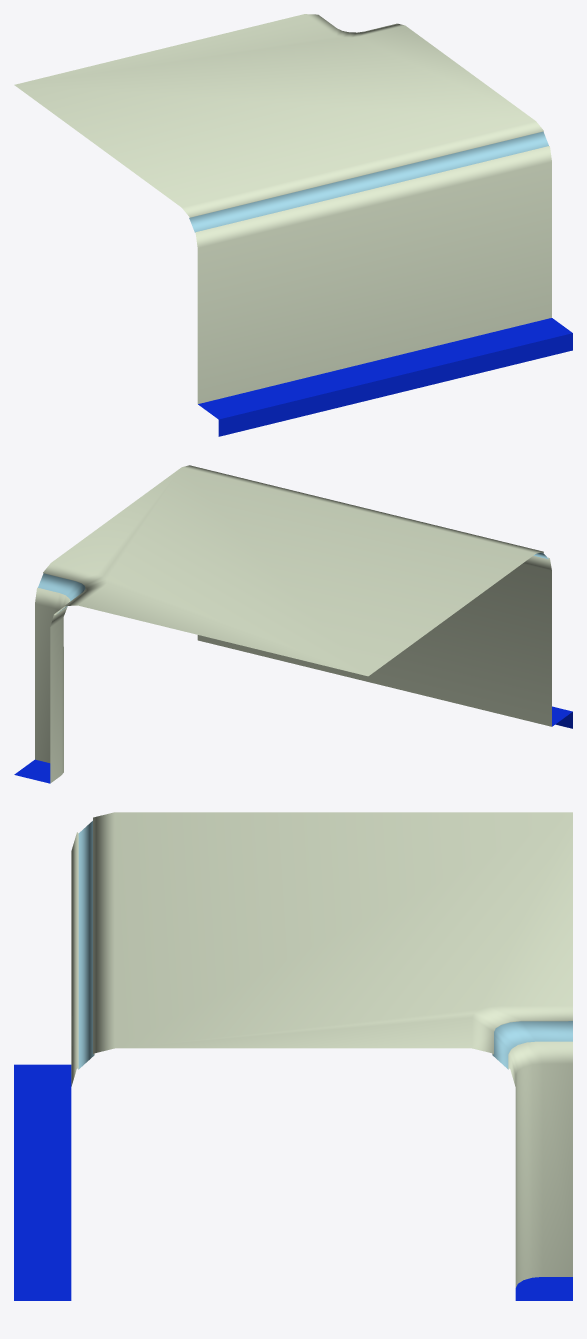
The model's file is Wall_Island_T_Singular_Sym.fbx.
3 renders of one model, top to bottom at view 1: azimuth 30°, elevation 25°; view 2: azimuth 150°, elevation 25°; view 3: azimuth 270°, elevation 25°, orthographic. The views are drawn at different scales.
Visible parts, largest first — view 1: Wall_Island_T_Singular_Sym; view 2: Wall_Island_T_Singular_Sym; view 3: Wall_Island_T_Singular_Sym.
Part boxes in pixels (x1,y1,x2,y2): Wall_Island_T_Singular_Sym: (14, 14, 572, 436); Wall_Island_T_Singular_Sym: (14, 465, 572, 783); Wall_Island_T_Singular_Sym: (14, 812, 572, 1300).
Size of the model in its own units: 100 by 54.53 by 100.
